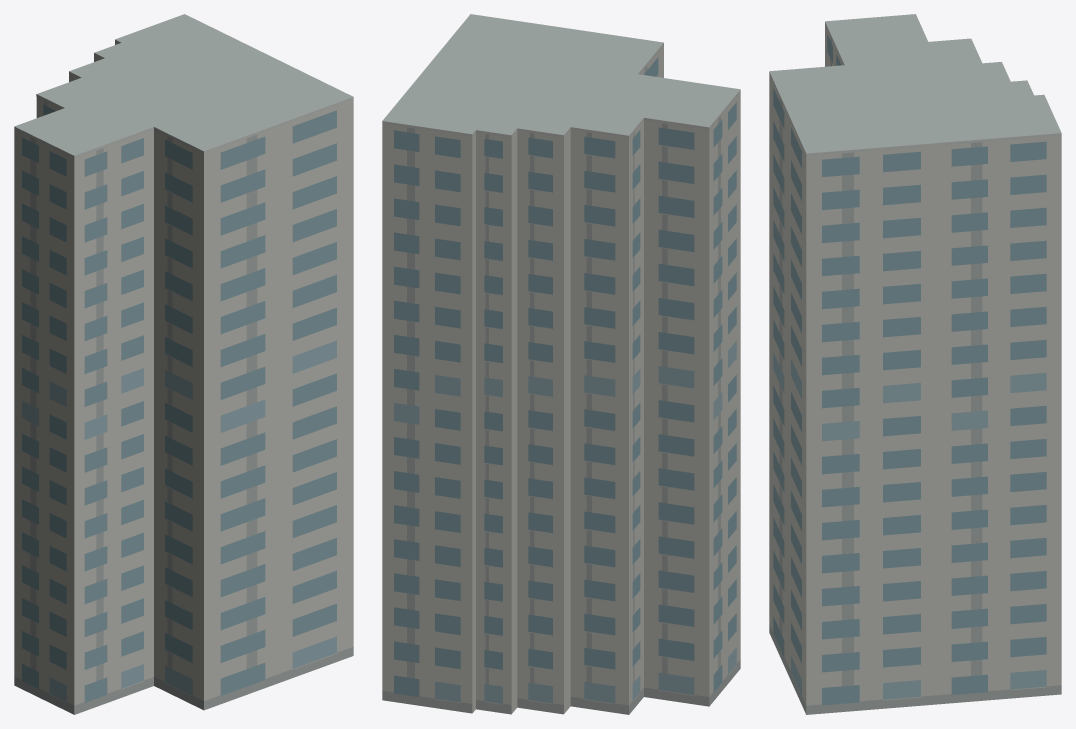
Rendered from residential-7f8ff39a-0696-4496-bfa4-9e570d69e793.glb.
3 views of the same model, side by side, from view 1: azimuth 30°, elevation 25°; view 2: azimuth 150°, elevation 25°; view 3: azimuth 270°, elevation 25° (orthographic). The views are drawn at different scales.
Parts seen in each view (by area): view 1: residential-7f8ff39a-0696-4496-bfa4-9e570d69e793.tmp; view 2: residential-7f8ff39a-0696-4496-bfa4-9e570d69e793.tmp; view 3: residential-7f8ff39a-0696-4496-bfa4-9e570d69e793.tmp.
Part boxes in pixels (left/top/right/bottom): residential-7f8ff39a-0696-4496-bfa4-9e570d69e793.tmp: left=14, top=14, right=353, bottom=714; residential-7f8ff39a-0696-4496-bfa4-9e570d69e793.tmp: left=382, top=14, right=740, bottom=714; residential-7f8ff39a-0696-4496-bfa4-9e570d69e793.tmp: left=769, top=14, right=1061, bottom=714.
Size of the model in its own units: 28.28 by 53 by 25.04.
